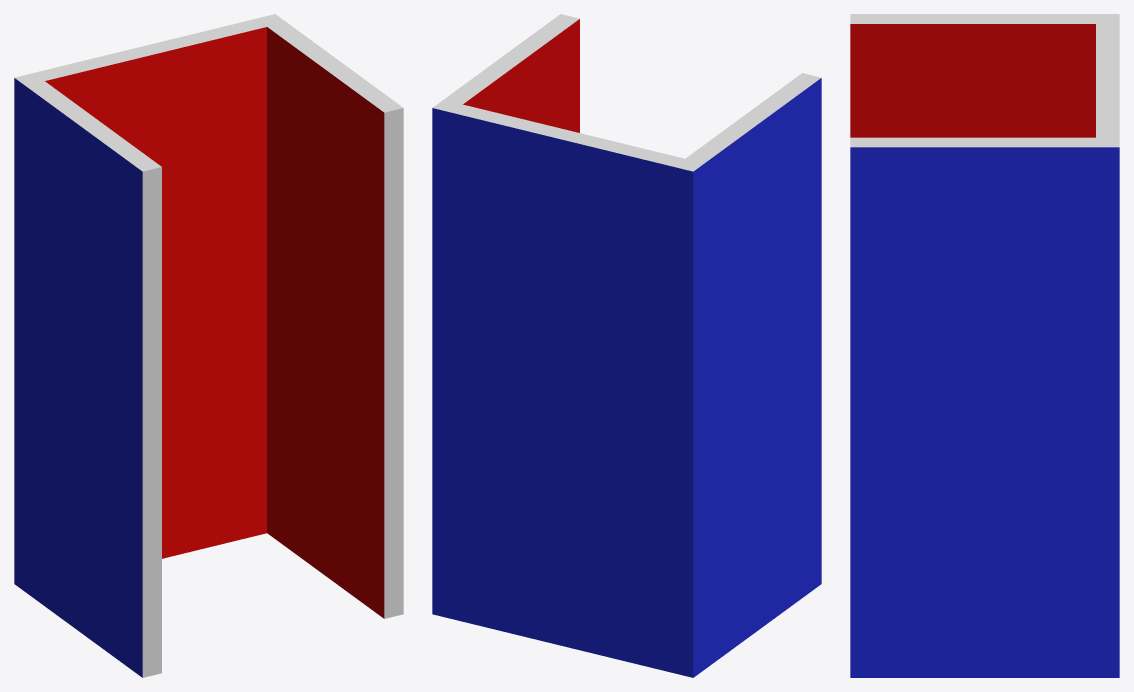
Rendered from Mesh_wall_deadend_Final.fbx.
3 views of the same model, side by side, from view 1: azimuth 30°, elevation 25°; view 2: azimuth 150°, elevation 25°; view 3: azimuth 270°, elevation 25° (orthographic). The views are drawn at different scales.
Parts seen in each view (by area): view 1: mesh_wall_deadend; view 2: mesh_wall_deadend; view 3: mesh_wall_deadend.
Boxes of the visible parts, bbox=[...] form: mesh_wall_deadend: bbox=[14, 14, 403, 677]; mesh_wall_deadend: bbox=[432, 14, 821, 677]; mesh_wall_deadend: bbox=[850, 14, 1119, 677].
Bounding box in the file's own units: 540 × 1000 × 460.
